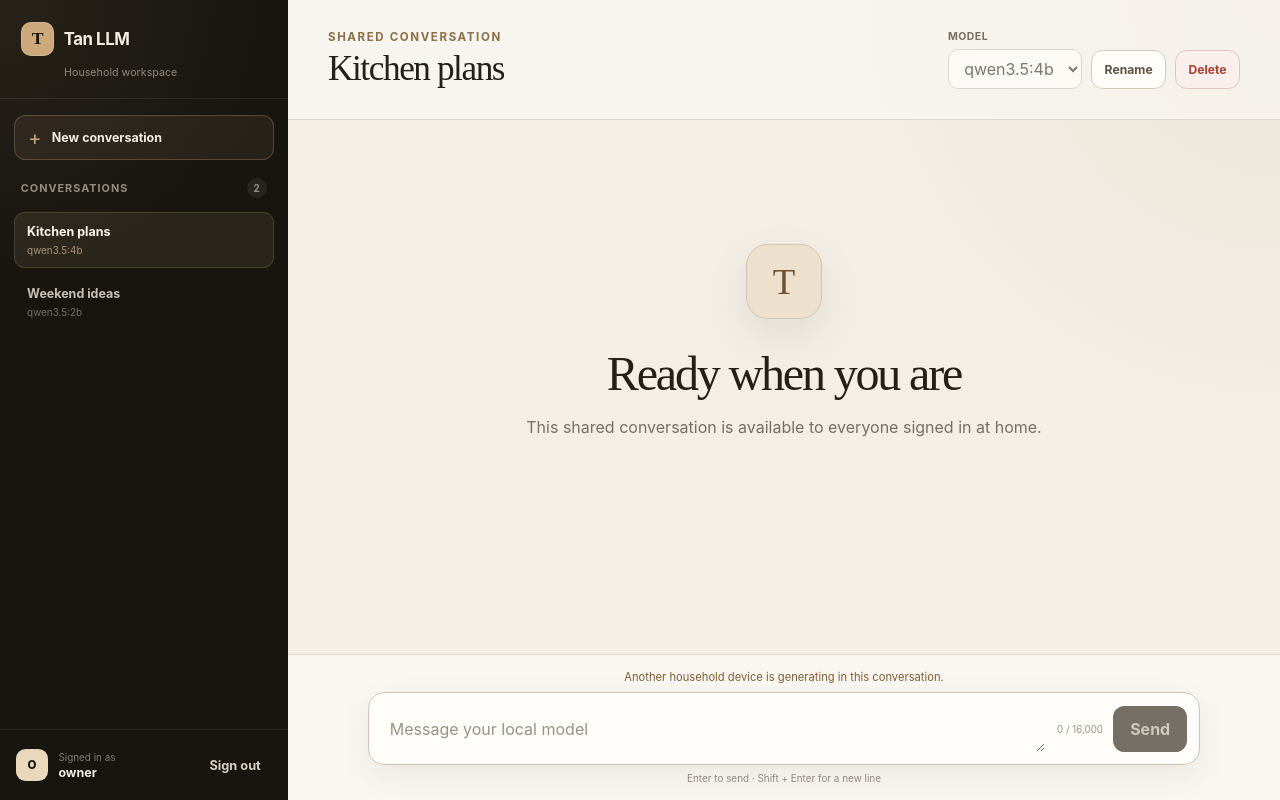
Test: shared conversation management › shows shared busy state without exposing another device's Stop control
The image size is (1280, 800).
expect the heading "Kitchen plans" is shown: met, box [328,49,504,89]
expect the text "Another household device is generating in this conversation." is shown: met, box [624,670,944,684]
Click the button "Weekend ideas qwen3.5:2b" at (74, 294), box [14,274,274,330]
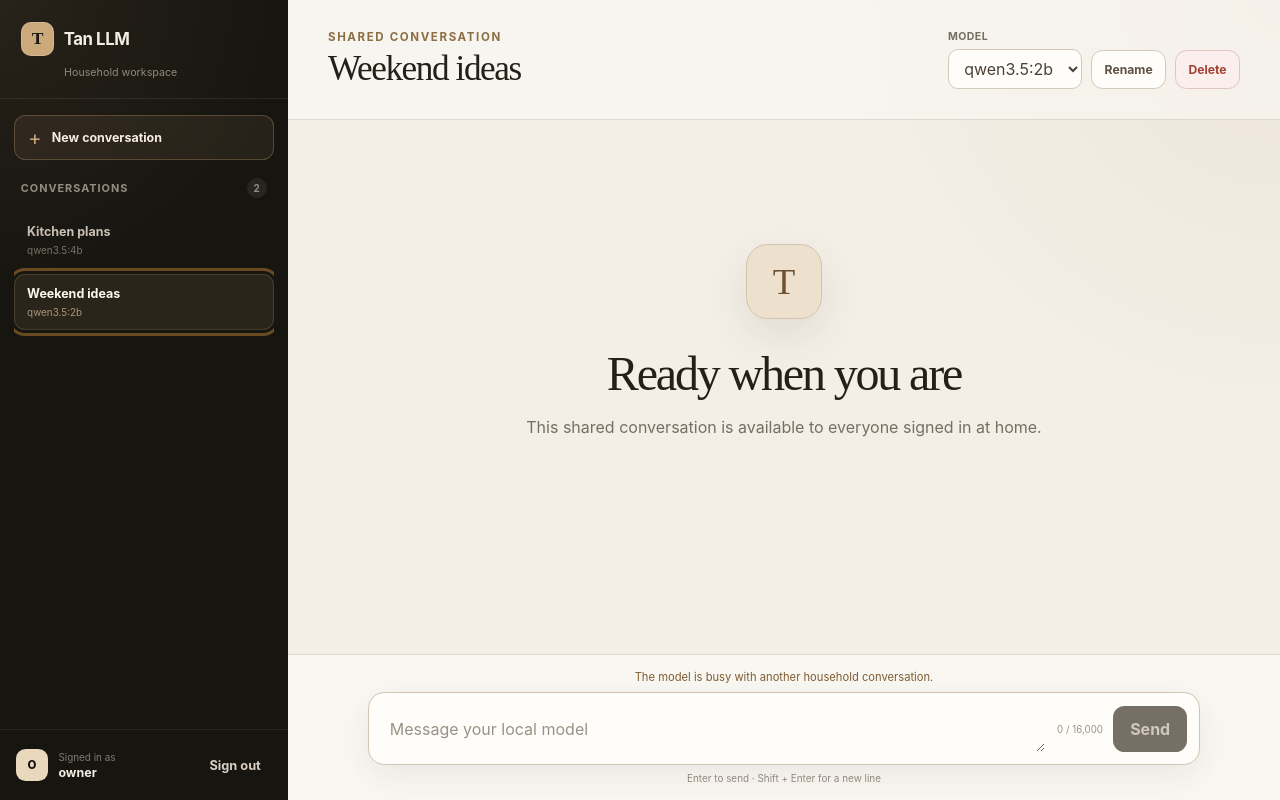
expect the button "Delete" is enabled: met, box [1175,50,1240,89]
expect the text "The model is busy with another household conversation." is shown: met, box [635,670,933,684]
expect the dropdown is enabled: met, box [948,49,1082,89]
